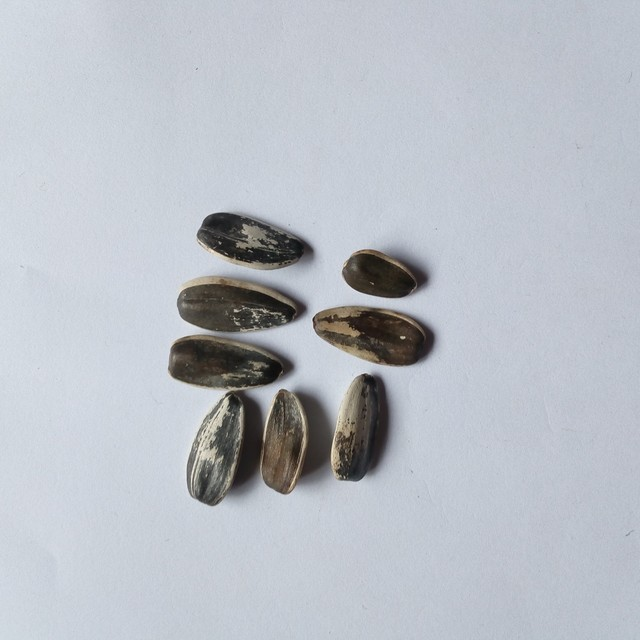girasol: (312, 305, 452, 369), (175, 390, 248, 510), (171, 276, 306, 334), (154, 334, 294, 388), (330, 369, 388, 485), (198, 211, 312, 269), (260, 389, 315, 497), (337, 248, 425, 299)
